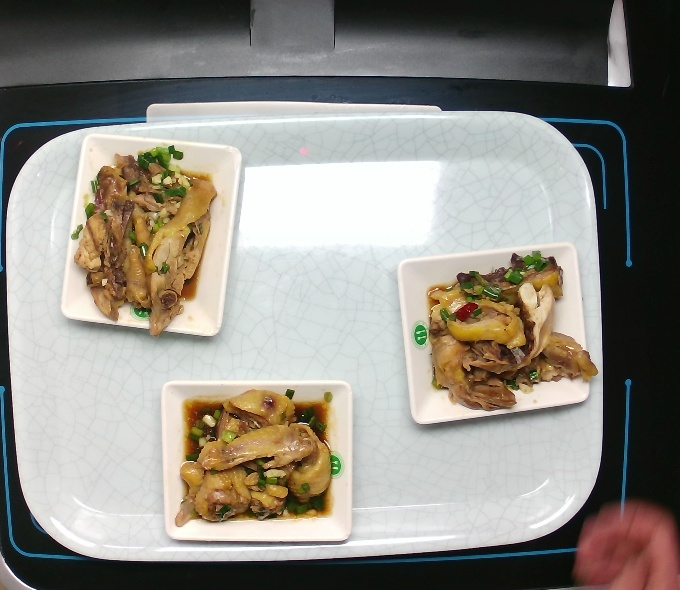wcq-CongYouJi: (66, 141, 221, 342), (418, 248, 601, 413), (167, 383, 344, 533)
